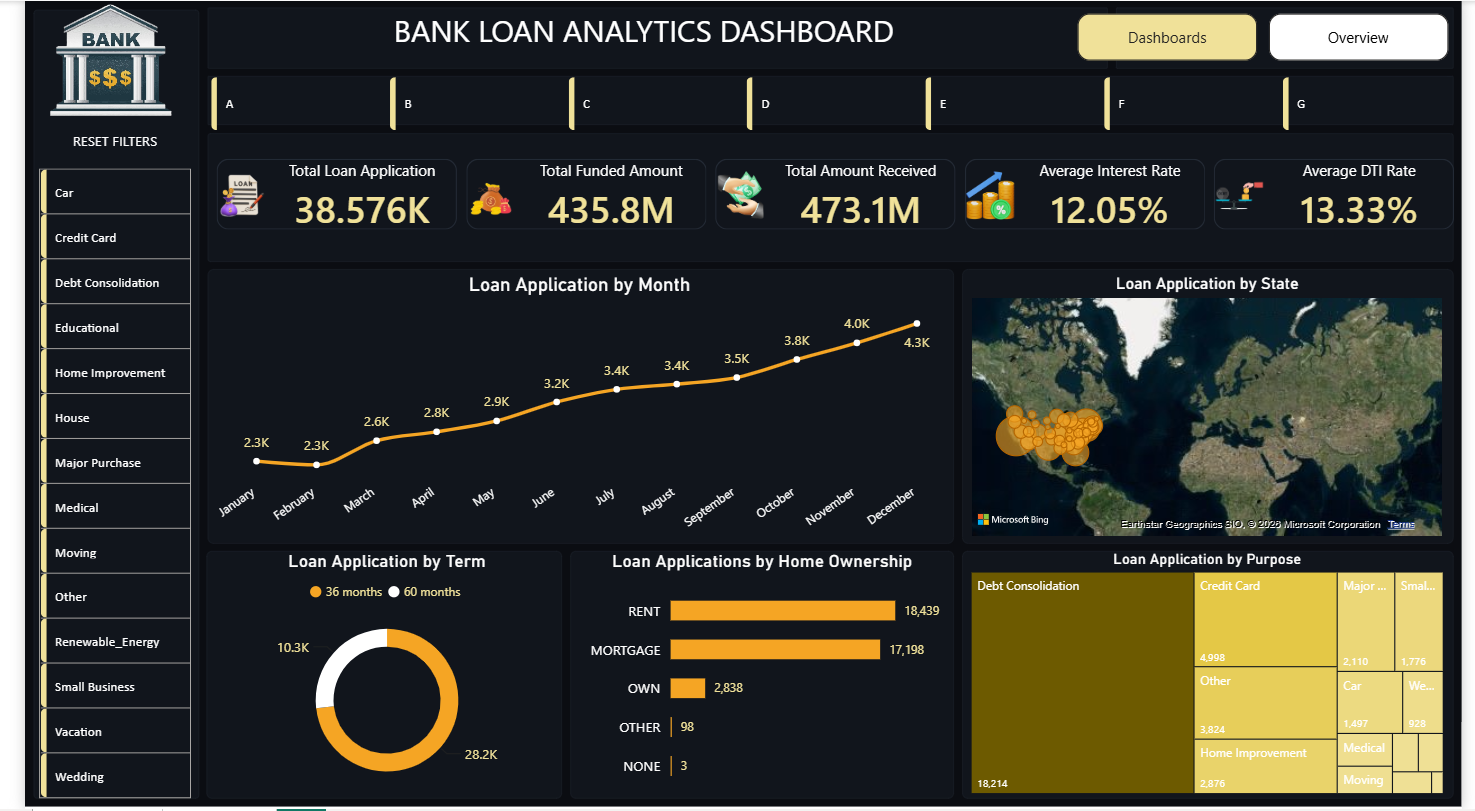

What the dashboard file says about the page in this screenshot:
{"tool":"powerbi","page":{"name":"Overview","canvas":[1280,720],"ordinal":1},"visuals":[{"type":"cardVisual","fields":{"Data":["financial_loan.Total Loan Application","financial_loan.Total Funded Amount","financial_loan.Total Amount Received","financial_loan.Average Interest Rate","financial_loan.Average DTI Rate"]},"box":[166,115.3,1114.2,113.9],"z":0},{"type":"image","box":[0,2.5,152.5,100],"z":12000},{"type":"advancedSlicerVisual","fields":{"Values":["financial_loan.PURPOSE"]},"box":[7.5,148.8,145,571.2],"z":13000},{"type":"advancedSlicerVisual","fields":{"Values":["financial_loan.GRADE"]},"box":[166.2,67.5,1113.8,47.5],"z":14000},{"type":"actionButton","box":[7.5,102.5,145,42.5],"z":15000},{"type":"textbox","box":[281.2,3.8,538.8,48.8],"z":16000},{"type":"pageNavigator","box":[937.4,10.9,330.6,42.2],"z":16001},{"type":"lineChart","title":"Loan Application by Month","fields":{"Category":["financial_loan.ISSUE_DATE.Variation.Date Hierarchy.Month"],"Y":["financial_loan.Total Loan Application"]},"box":[166.5,242.5,653.9,238.9],"z":16002},{"type":"donutChart","title":"Loan Application by Term","fields":{"Category":["financial_loan.TERM"],"Y":["financial_loan.Total Loan Application"]},"box":[166.5,489.8,311.3,220.8],"z":16003},{"type":"clusteredBarChart","title":"Loan Applications by Home Ownership","fields":{"Category":["financial_loan.HOME_OWNERSHIP"],"Y":["financial_loan.Total Loan Application"]},"box":[493.4,489.8,326.9,220.8],"z":16004},{"type":"treemap","title":"Loan Application by Purpose","fields":{"Group":["financial_loan.PURPOSE"],"Values":["financial_loan.Total Loan Application"]},"box":[838.5,489.8,429.5,220.8],"z":16005},{"type":"map","title":"Loan Application by State","fields":{"Category":["financial_loan.ADDRESS_STATE"],"Size":["financial_loan.Total Loan Application"]},"box":[838.5,242.5,429.5,238.9],"z":16006}]}

Visuals, with their boxes in screenshot pixels (x1, y1, x2, y2), scaled from the page's 1280x720 canvas onto the 1475x811 screenshot:
cardVisual - financial_loan.Total Loan Application x financial_loan.Total Funded Amount: [191,130,1474,258]
image: [0,3,176,115]
advancedSlicerVisual - financial_loan.PURPOSE: [9,168,176,810]
advancedSlicerVisual - financial_loan.GRADE: [192,76,1474,130]
actionButton: [9,115,176,163]
textbox: [324,4,945,59]
pageNavigator: [1080,12,1461,60]
"Loan Application by Month" lineChart: [192,273,945,542]
"Loan Application by Term" donutChart: [192,552,551,800]
"Loan Applications by Home Ownership" clusteredBarChart: [569,552,945,800]
"Loan Application by Purpose" treemap: [966,552,1461,800]
"Loan Application by State" map: [966,273,1461,542]
